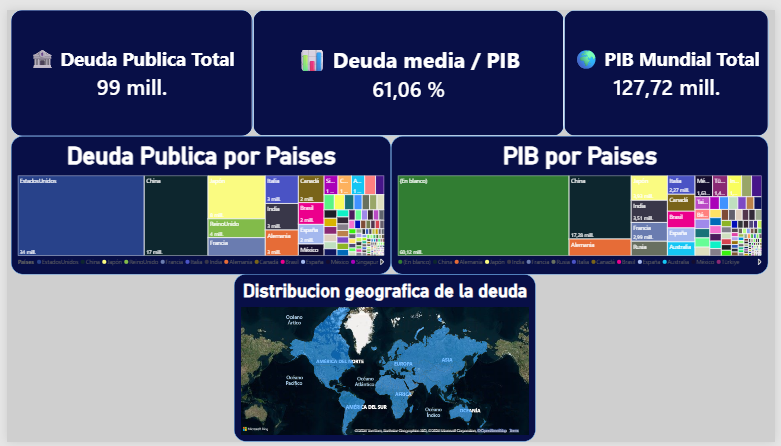

The dashboard page shown, as its layout file describes it:
{"tool":"powerbi","page":{"name":"Página 1","canvas":[1920,1080],"ordinal":0},"visuals":[{"type":"cardVisual","fields":{"Data":["Medidas creadas.DeudaTotal"]},"box":[11,0,603.9,315.2],"z":0},{"type":"cardVisual","fields":{"Data":["Medidas creadas.PIB TOTAL"]},"box":[1393,0,511.3,315.2],"z":1000},{"type":"cardVisual","fields":{"Data":["Medidas creadas.Media porcentaje de deuda"]},"box":[615,0,777.5,315],"z":2000},{"type":"treemap","title":"Deuda Publica por Paises","fields":{"Group":["Deuda Publica.Países"],"Values":["Medidas creadas.DeudaTotal"]},"box":[11,315.2,950,346],"z":3000},{"type":"filledMap","title":"Distribucion geografica de la deuda","fields":{"Category":["Deuda Publica.Países"]},"box":[566.4,661.2,753.8,418.8],"z":4000},{"type":"treemap","title":"PIB por Paises","fields":{"Group":["Deuda Publica.Países"],"Values":["Medidas creadas.PIB TOTAL"]},"box":[961,315.2,943.3,346],"z":5000}]}

Visuals, with their boxes in screenshot pixels (x1, y1, x2, y2), scaled from the page's 1920x1080 canvas onto the 781x446 screenshot:
cardVisual - Medidas creadas.DeudaTotal: x1=4 y1=0 x2=250 y2=130
cardVisual - Medidas creadas.PIB TOTAL: x1=567 y1=0 x2=775 y2=130
cardVisual - Medidas creadas.Media porcentaje de deuda: x1=250 y1=0 x2=566 y2=130
"Deuda Publica por Paises" treemap: x1=4 y1=130 x2=391 y2=273
"Distribucion geografica de la deuda" filledMap: x1=230 y1=273 x2=537 y2=445
"PIB por Paises" treemap: x1=391 y1=130 x2=775 y2=273
